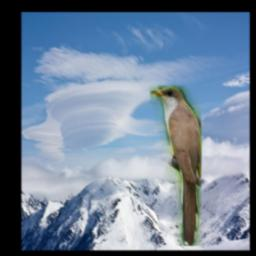Cuckoo: (150, 86, 202, 246)
